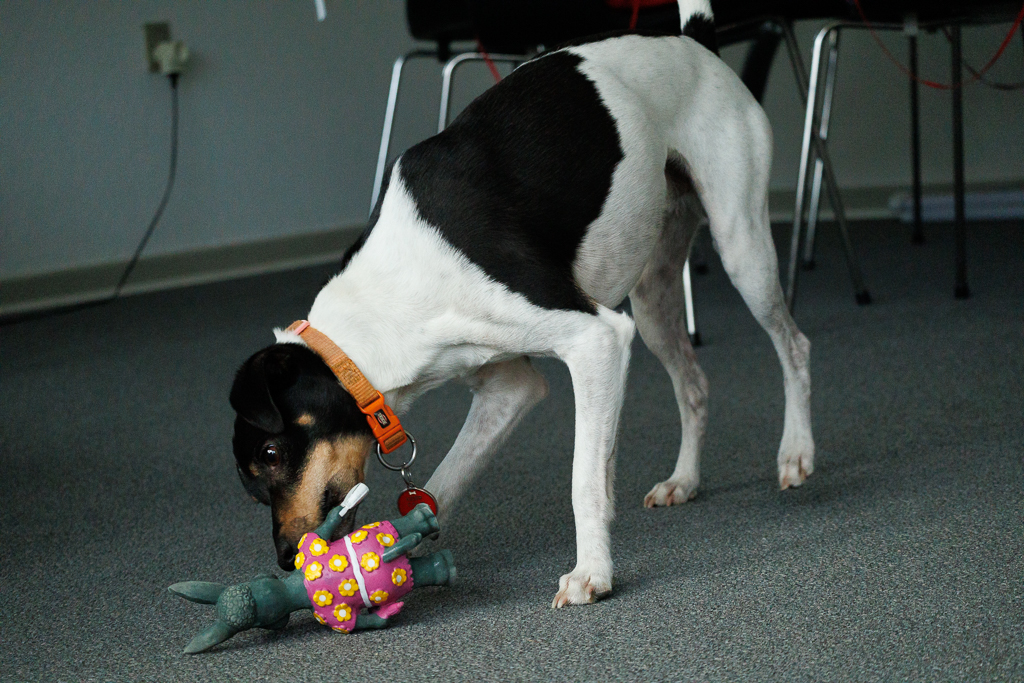Dog: (222, 0, 833, 618)
Humanoid: (162, 475, 473, 665)
